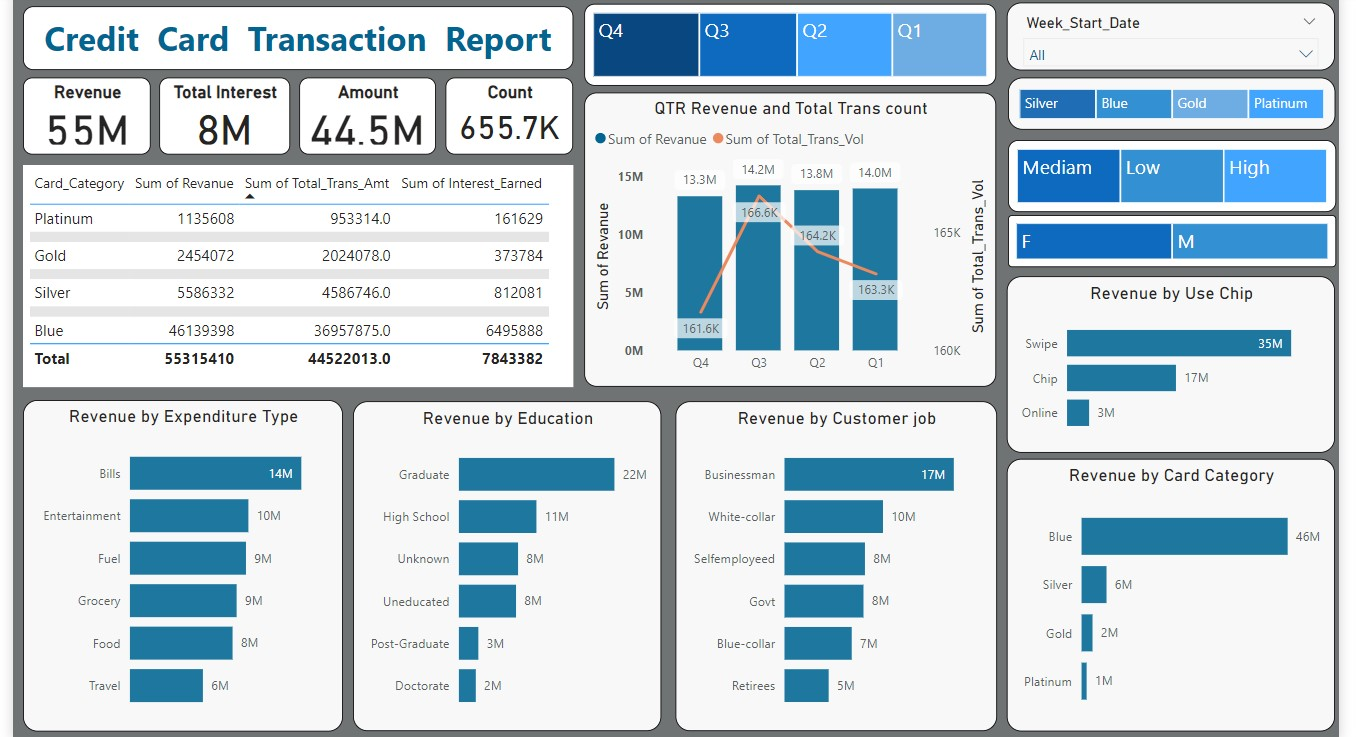

What the dashboard file says about the page in this screenshot:
{"tool":"powerbi","page":{"name":"Card Transaction","canvas":[1280,720],"ordinal":1},"visuals":[{"type":"textbox","box":[9.6,11,531,61.7],"z":0},{"type":"lineStackedColumnComboChart","title":"QTR Revenue and Total Trans count","fields":{"Category":["credit_card.Qtr"],"Y":["Sum(credit_card.Revanue)"],"Y2":["Sum(credit_card.Total_Trans_Vol)"]},"box":[551.6,94.7,397.9,284],"z":1000},{"type":"barChart","title":"Revenue by Expenditure Type","fields":{"Y":["Sum(credit_card.Revanue)"],"Category":["credit_card.Exp Type"]},"box":[9.6,391.1,308.7,319.7],"z":2000},{"type":"barChart","title":"Revenue by Education","fields":{"Y":["Sum(credit_card.Revanue)"],"Category":["customer.Education_Level"]},"box":[328,392.5,297.8,318.4],"z":3000},{"type":"barChart","title":"Revenue by Customer job","fields":{"Y":["Sum(credit_card.Revanue)"],"Category":["customer.Customer_Job"]},"box":[639.5,392.5,310.1,318.4],"z":4000},{"type":"barChart","title":"Revenue by Card Category","fields":{"Y":["Sum(credit_card.Revanue)"],"Category":["credit_card.Card_Category"]},"box":[959.2,447.3,317,263.5],"z":5000},{"type":"barChart","title":"Revenue by Use Chip","fields":{"Y":["Sum(credit_card.Revanue)"],"Category":["credit_card.Use Chip"]},"box":[959.2,271.7,317,170.2],"z":5001},{"type":"tableEx","fields":{"Values":["credit_card.Card_Category","Sum(credit_card.Revanue)","Sum(credit_card.Total_Trans_Amt)","Sum(credit_card.Interest_Earned)"]},"box":[9.6,164.7,531,214.1],"z":5002},{"type":"card","title":"Revenue","fields":{"Values":["Sum(credit_card.Revanue)"]},"box":[9.6,79.6,123.5,74.1],"z":5003},{"type":"card","title":"Total Interest","fields":{"Values":["Sum(credit_card.Interest_Earned)"]},"box":[141.3,79.6,126.2,74.1],"z":5004},{"type":"card","title":"Amount","fields":{"Values":["Sum(credit_card.Total_Trans_Amt)"]},"box":[275.8,79.6,131.7,74.1],"z":5005},{"type":"card","title":"Count","fields":{"Values":["Sum(credit_card.Total_Trans_Vol)"]},"box":[417.2,79.6,123.5,74.1],"z":5006},{"type":"slicer","fields":{"Values":["credit_card.Week_Start_Date"]},"box":[959.2,6.9,317,65.9],"z":5007},{"type":"treemap","fields":{"Group":["credit_card.Qtr"],"Values":["Avg(credit_card.Client_Num)"]},"box":[551.6,8.2,397.9,79.6],"z":5008},{"type":"treemap","fields":{"Group":["customer.Gender"],"Values":["Avg(credit_card.Client_Num)"]},"box":[960.6,212.7,317,50.8],"z":5009},{"type":"treemap","fields":{"Group":["credit_card.Card_Category"],"Values":["Avg(credit_card.Client_Num)"]},"box":[960.6,79.6,315.6,50.8],"z":5010},{"type":"treemap","fields":{"Values":["Avg(credit_card.Client_Num)"],"Group":["customer.IncomeGroup"]},"box":[960.6,140,317,70],"z":5011}]}

Visuals, with their boxes in screenshot pixels (x1, y1, x2, y2):
textbox: x1=7 y1=1 x2=563 y2=66
"QTR Revenue and Total Trans count" lineStackedColumnComboChart: x1=575 y1=89 x2=992 y2=386
"Revenue by Expenditure Type" barChart: x1=7 y1=399 x2=330 y2=734
"Revenue by Education" barChart: x1=340 y1=401 x2=652 y2=734
"Revenue by Customer job" barChart: x1=667 y1=401 x2=992 y2=734
"Revenue by Card Category" barChart: x1=1002 y1=458 x2=1334 y2=734
"Revenue by Use Chip" barChart: x1=1002 y1=274 x2=1334 y2=453
tableEx - credit_card.Card_Category x Sum(credit_card.Revanue): x1=7 y1=162 x2=563 y2=386
"Revenue" card: x1=7 y1=73 x2=136 y2=150
"Total Interest" card: x1=145 y1=73 x2=277 y2=150
"Amount" card: x1=286 y1=73 x2=424 y2=150
"Count" card: x1=434 y1=73 x2=563 y2=150
slicer - credit_card.Week_Start_Date: x1=1002 y1=0 x2=1334 y2=66
treemap - credit_card.Qtr x Avg(credit_card.Client_Num): x1=575 y1=0 x2=992 y2=81
treemap - customer.Gender x Avg(credit_card.Client_Num): x1=1003 y1=212 x2=1335 y2=266
treemap - credit_card.Card_Category x Avg(credit_card.Client_Num): x1=1003 y1=73 x2=1334 y2=126
treemap - Avg(credit_card.Client_Num) x customer.IncomeGroup: x1=1003 y1=136 x2=1335 y2=209
